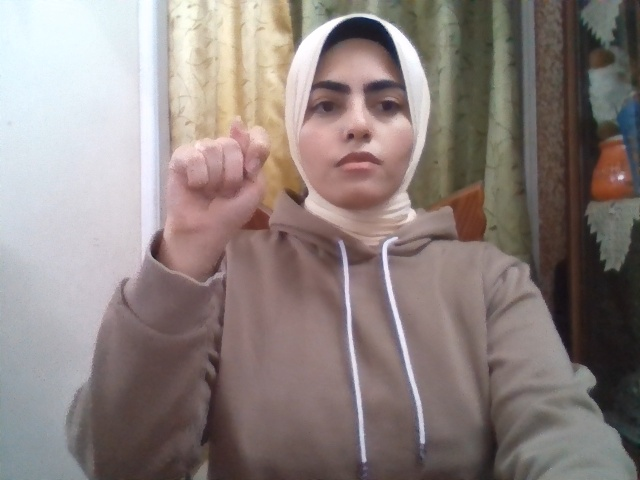T: (163, 117, 271, 240)
